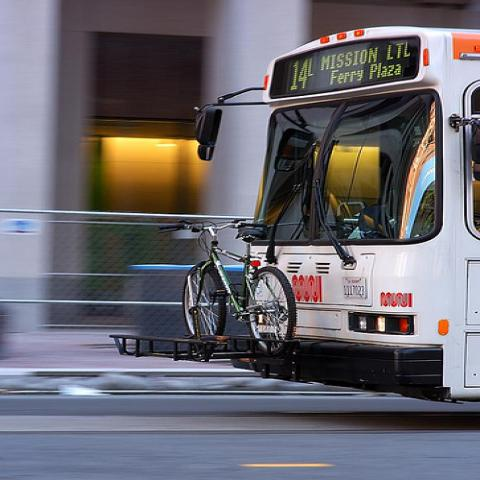bus: (101, 24, 478, 411)
